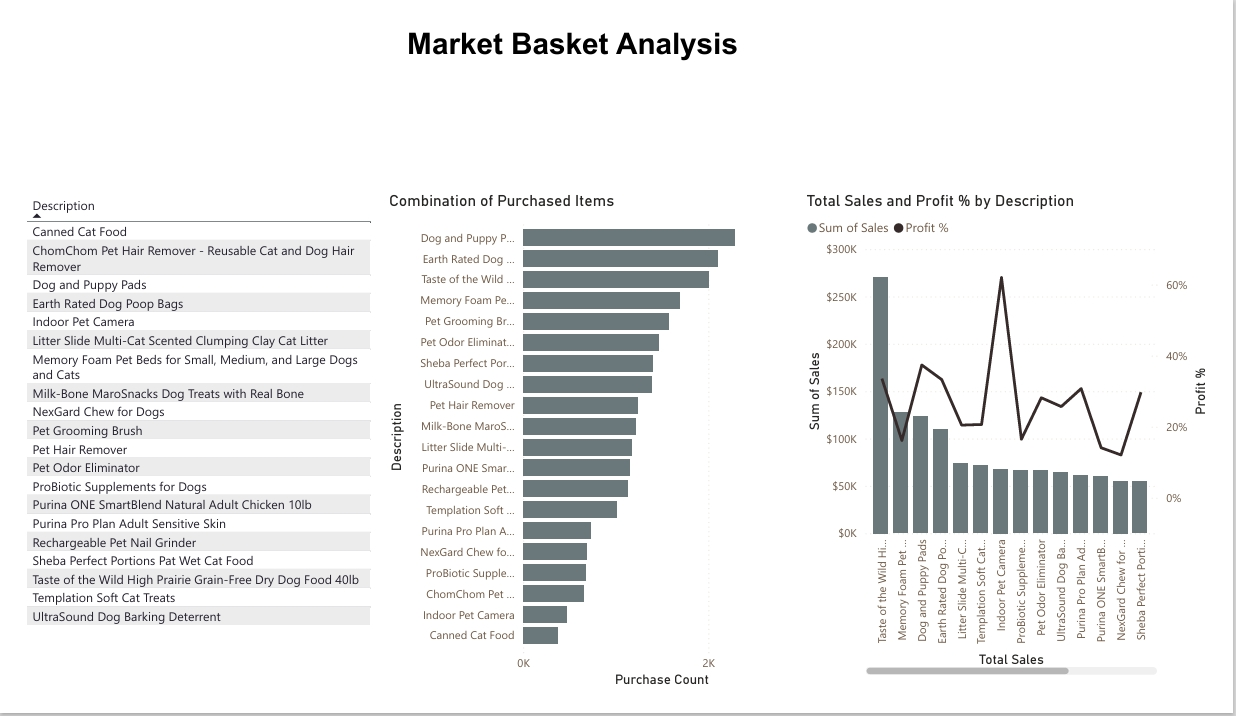

Layout of this report page (visuals, bound fields, positions):
{"tool":"powerbi","page":{"name":"Market Basket Analysis","canvas":[1280,720],"ordinal":2},"visuals":[{"type":"tableEx","fields":{"Values":["Sales.Description"]},"box":[0,182.4,389.8,497],"z":0},{"type":"barChart","title":"Combination of Purchased Items","fields":{"Category":["Market Basket.Description"],"Y":["CountNonNull(Market Basket.Quantity)"]},"box":[389.8,182.4,460.5,538],"z":1000},{"type":"lineStackedColumnComboChart","title":"Total Sales and Profit % by Description","fields":{"Y":["Sum(Sales.Sales)"],"Y2":["New_Measures.Profit %"],"Category":["Products.Description"]},"box":[838.9,182.4,441.1,524.3],"z":2000},{"type":"textbox","box":[408.5,0,537.6,71.6],"z":3000}]}

Visuals, with their boxes in screenshot pixels (x1, y1, x2, y2), scaled from the page's 1280x720 canvas onto the 1236x716 screenshot:
tableEx - Sales.Description: locate(0, 181, 376, 676)
"Combination of Purchased Items" barChart: locate(376, 181, 821, 715)
"Total Sales and Profit % by Description" lineStackedColumnComboChart: locate(810, 181, 1235, 703)
textbox: locate(394, 0, 914, 71)
